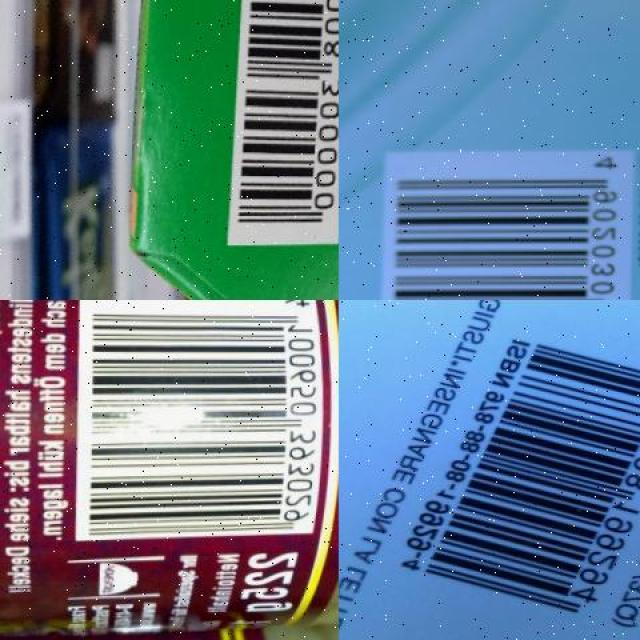Barcode: (394, 311, 640, 621), (75, 300, 328, 543), (366, 145, 638, 300), (229, 0, 339, 243)
